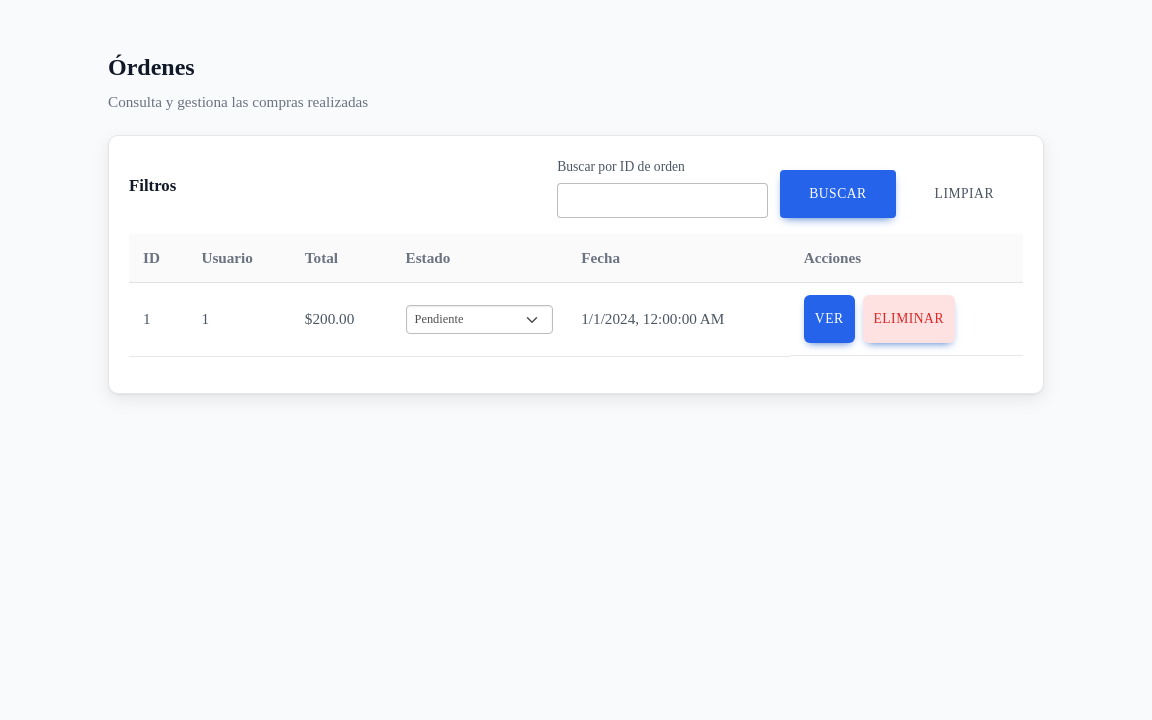
Scenario: Admin Orders integration › muestra datos de envío en detalle de orden
Click the button "Ver": (829, 319) [804,295,854,343]
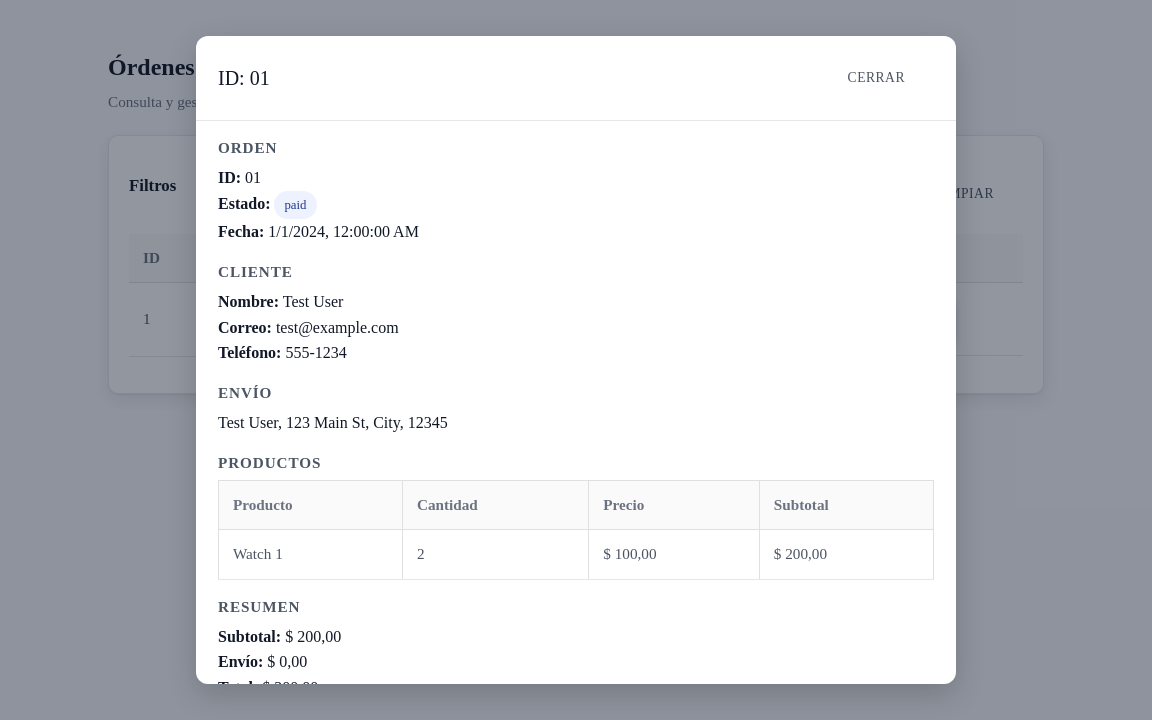
expect the heading "ID: 01" is shown: met, box [218,66,270,90]
expect the text "Correo: test@example.com" is shown: met, box [218,319,399,336]
expect the text "Test User, 123 Main St, City, 12345" is shown: met, box [218,414,448,431]
